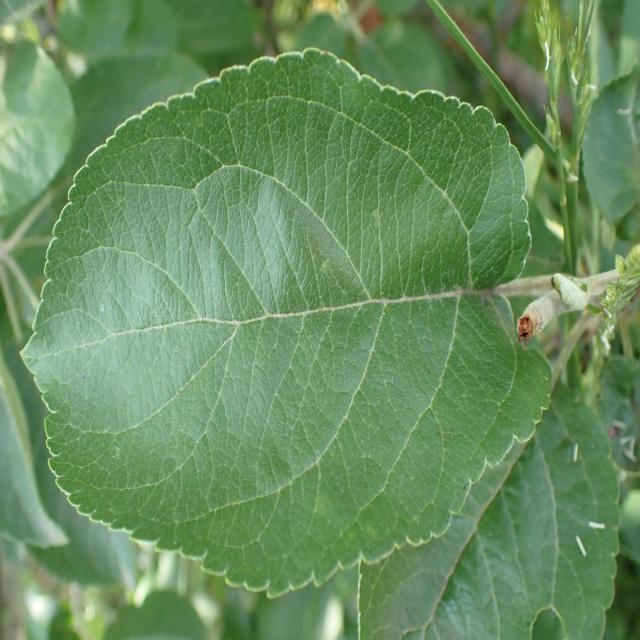frog-eye-leaf-spot: (19, 47, 554, 600)
